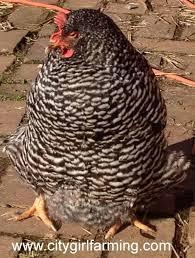AbNormal: (1, 0, 195, 243)
